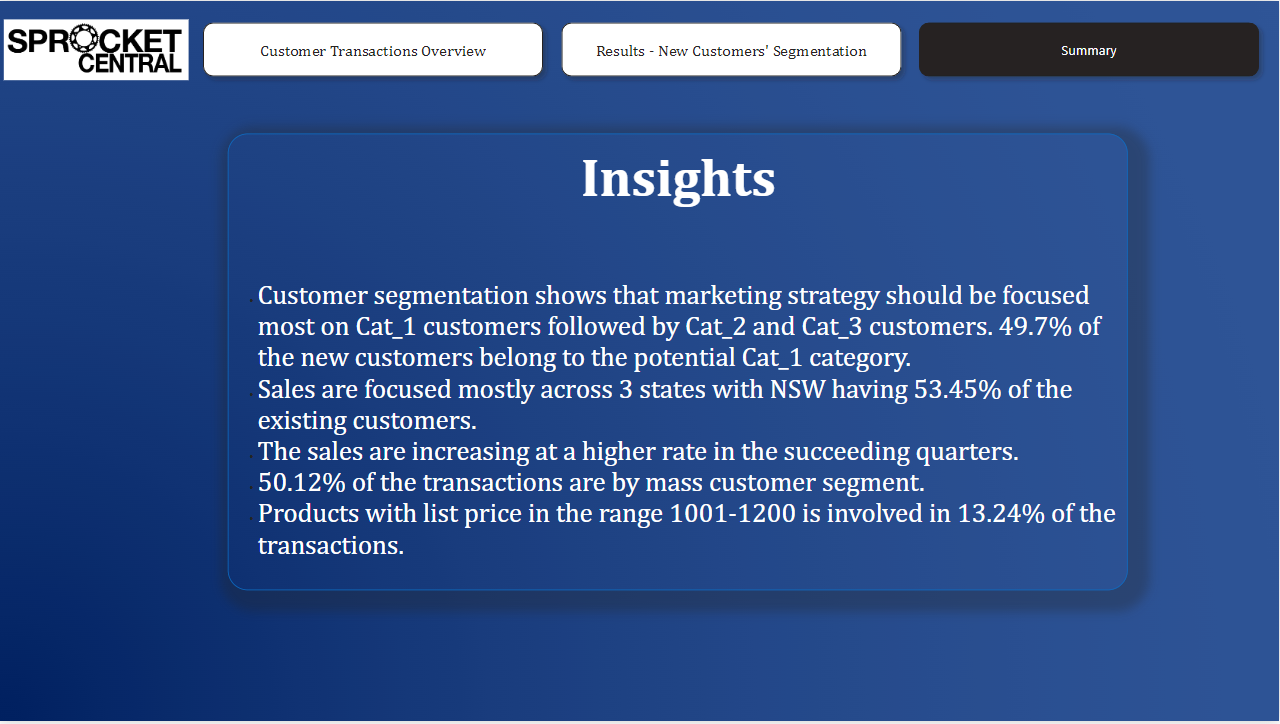

What the dashboard file says about the page in this screenshot:
{"tool":"powerbi","page":{"name":"Summary","canvas":[1280,720],"ordinal":2},"visuals":[{"type":"image","box":[0,0,194.8,97.4],"z":0},{"type":"bookmarkNavigator","box":[194.8,12.5,1075.5,72.3],"z":1000},{"type":"textbox","box":[229.1,132.7,899.7,457.1],"z":2000}]}

Visuals, with their boxes in screenshot pixels (x1, y1, x2, y2), scaled from the page's 1280x720 canvas onto the 1280x724 screenshot:
image: (0,0,195,98)
bookmarkNavigator: (195,13,1270,85)
textbox: (229,133,1129,593)
